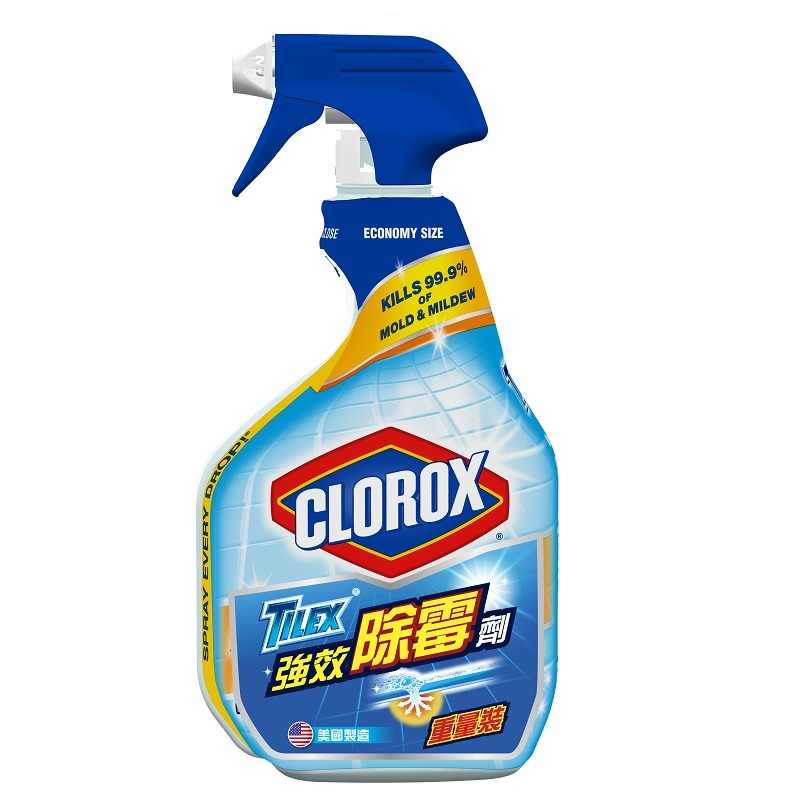cleaner: (183, 27, 567, 784)
